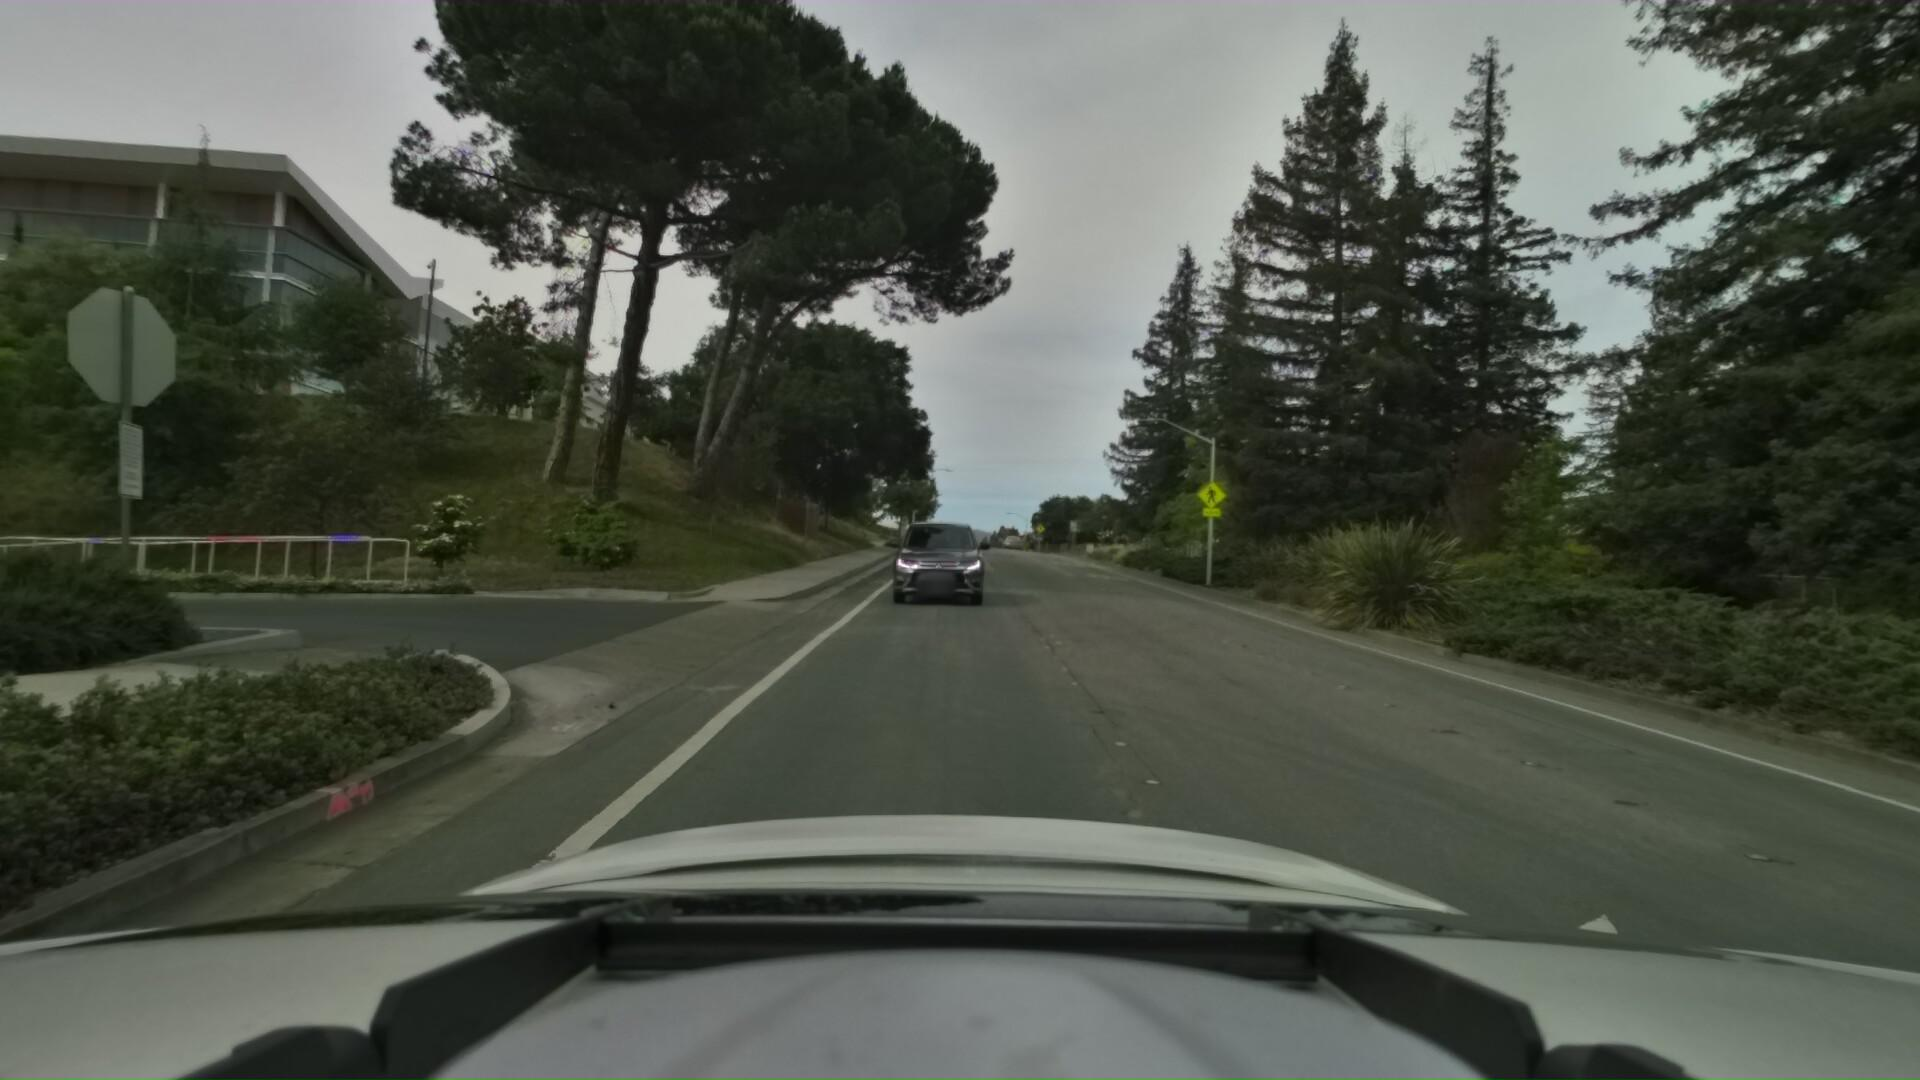car: (877, 492, 990, 611)
